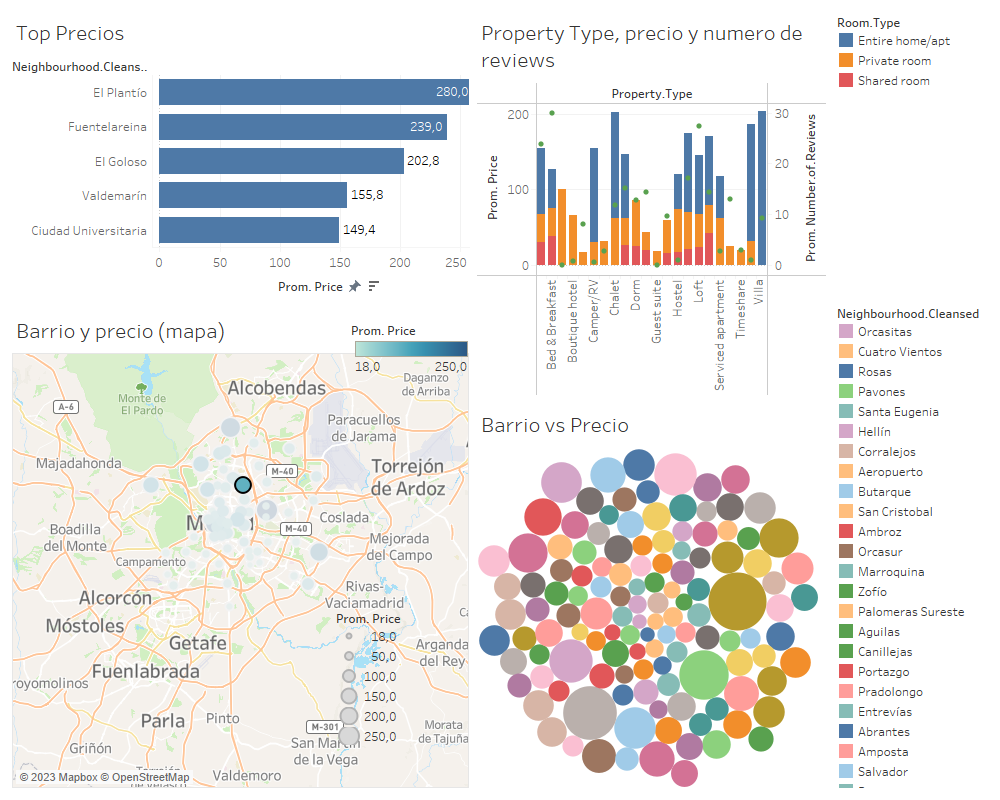

Layout of this report page (visuals, bound fields, positions):
{"tool":"tableau","page":{"name":"Dashboard 2","canvas":[1000,800],"ordinal":1},"visuals":[{"type":"worksheet","title":"Top Precios","mark":"Automatic","rows":["Neighbourhood.Cleansed"],"cols":["Price"],"box":[8,8,465,298]},{"type":"worksheet","title":"Property Type, precio y numero de reviews","mark":"Bar","rows":["Price","Number.of.Reviews"],"cols":["Property.Type"],"box":[473,8,359,392]},{"type":"legend","title":"Property Type, precio y numero de reviews","param":"[federated.1ehh2ds02xjzyj17pppx21c76nv7].[none:Room.Type:nk]","box":[832,8,160,291]},{"type":"legend","title":"Barrio vs Precio","param":"[federated.1ehh2ds02xjzyj17pppx21c76nv7].[none:Neighbourhood.Cleansed:nk]","box":[832,299,160,493]},{"type":"worksheet","title":"Barrio y precio (mapa)","mark":"Automatic","rows":["Calculation_993043780082253825"],"cols":["Calculation_993043780082581506"],"box":[8,306,465,486]},{"type":"legend","title":"Barrio y precio (mapa)","param":"[federated.1ehh2ds02xjzyj17pppx21c76nv7].[avg:Price:qk]","box":[351,318,121,100]},{"type":"worksheet","title":"Barrio vs Precio","mark":"Circle","box":[473,400,359,392]},{"type":"legend","title":"Barrio y precio (mapa)","param":"[federated.1ehh2ds02xjzyj17pppx21c76nv7].[avg:Price:qk]","box":[335,608,140,176]}]}

Visuals, with their boxes in screenshot pixels (x1, y1, x2, y2), scaled from the page's 1000x800 canvas onto the 1000x800 screenshot:
"Top Precios" worksheet: 8,8,473,306
"Property Type, precio y numero de reviews" worksheet (Bar marks): 473,8,832,400
"Property Type, precio y numero de reviews" legend: 832,8,992,299
"Barrio vs Precio" legend: 832,299,992,792
"Barrio y precio (mapa)" worksheet: 8,306,473,792
"Barrio y precio (mapa)" legend: 351,318,472,418
"Barrio vs Precio" worksheet (Circle marks): 473,400,832,792
"Barrio y precio (mapa)" legend: 335,608,475,784
